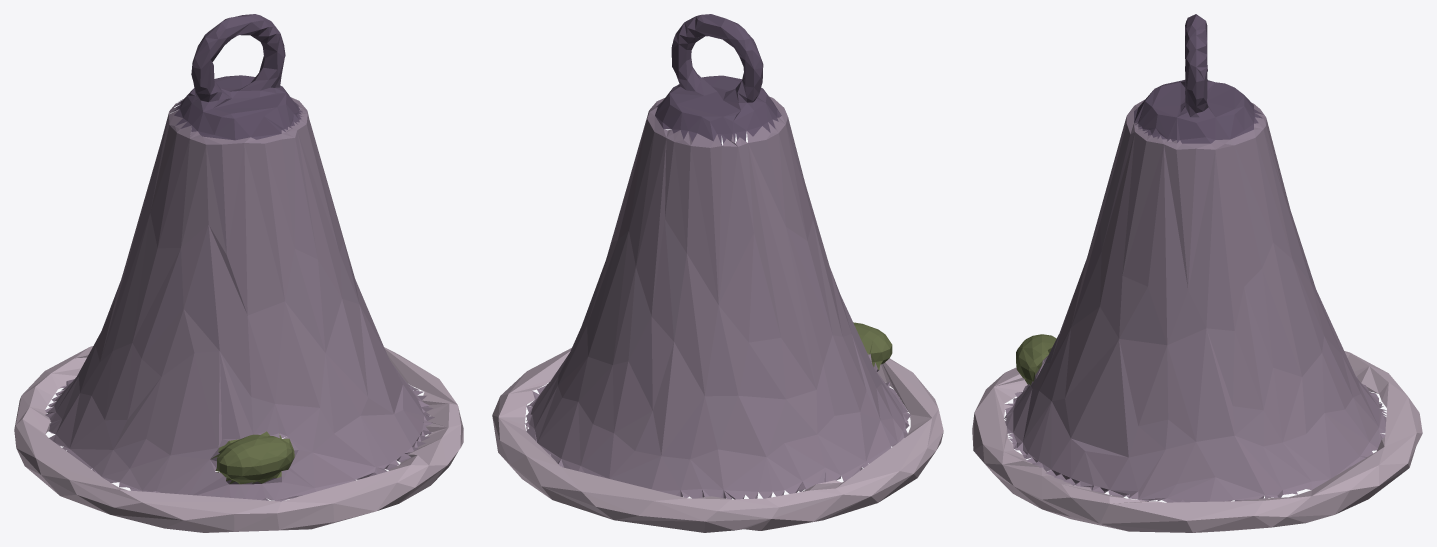
Rendered from bellstone.glb.
The picture shows the model from 3 angles, left to right: view 1: azimuth 30°, elevation 25°; view 2: azimuth 150°, elevation 25°; view 3: azimuth 270°, elevation 25°; orthographic projection.
Visible parts, largest first — view 1: bellstone; view 2: bellstone; view 3: bellstone.
Part boxes in pixels (x1,y1,x2,y2): bellstone: (14, 14, 463, 532); bellstone: (492, 14, 943, 532); bellstone: (972, 14, 1422, 532).
Bounding box in the file's own units: 0.6479 × 0.6747 × 0.6454.
